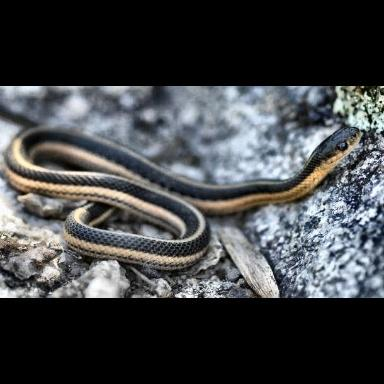snake: (4, 126, 361, 270)
